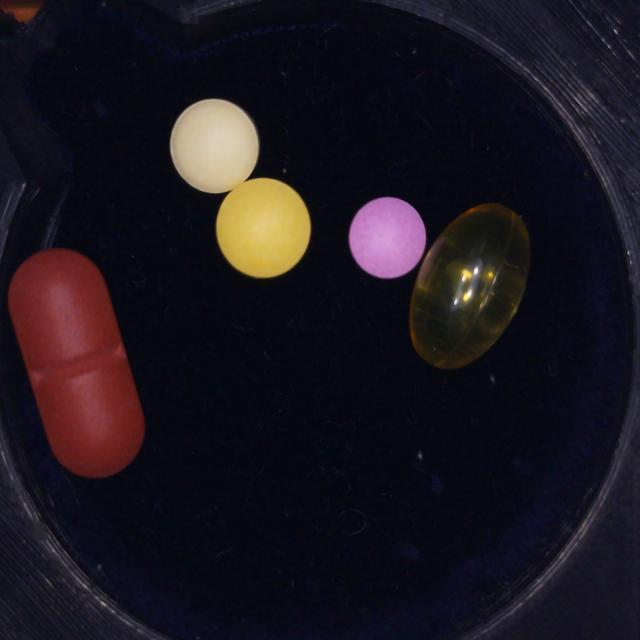Pill: (8, 249, 144, 477), (410, 204, 529, 369), (216, 178, 311, 278), (170, 98, 259, 193), (349, 197, 426, 279)
